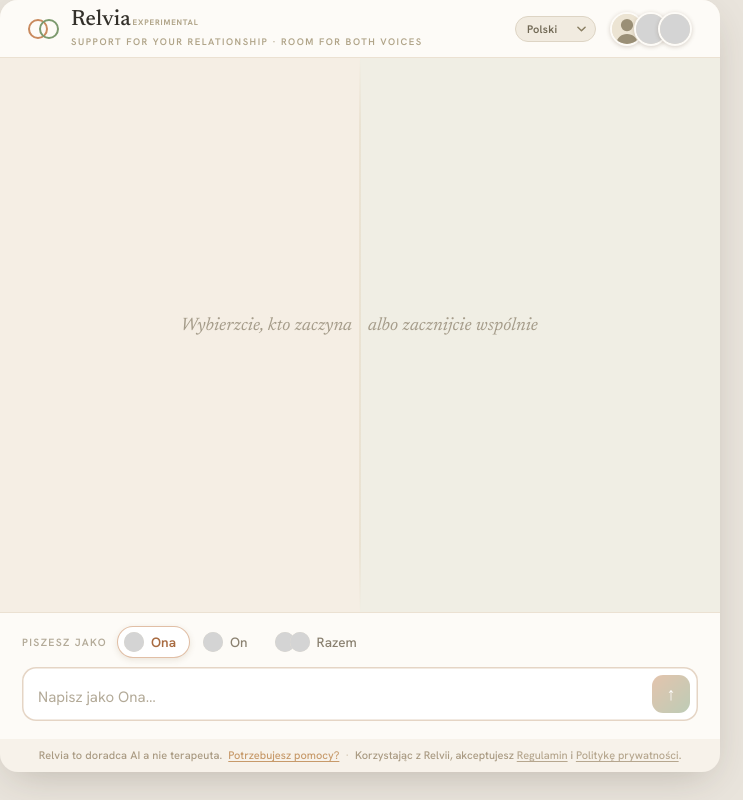
zmiana języka a stan rozmowy › komunikat błędu przechowywany jako KOD zmienia język przy przełączeniu
In the text box with placeholder "Napisz jako Ona…": (340, 698) [38,683,642,713], type "test"
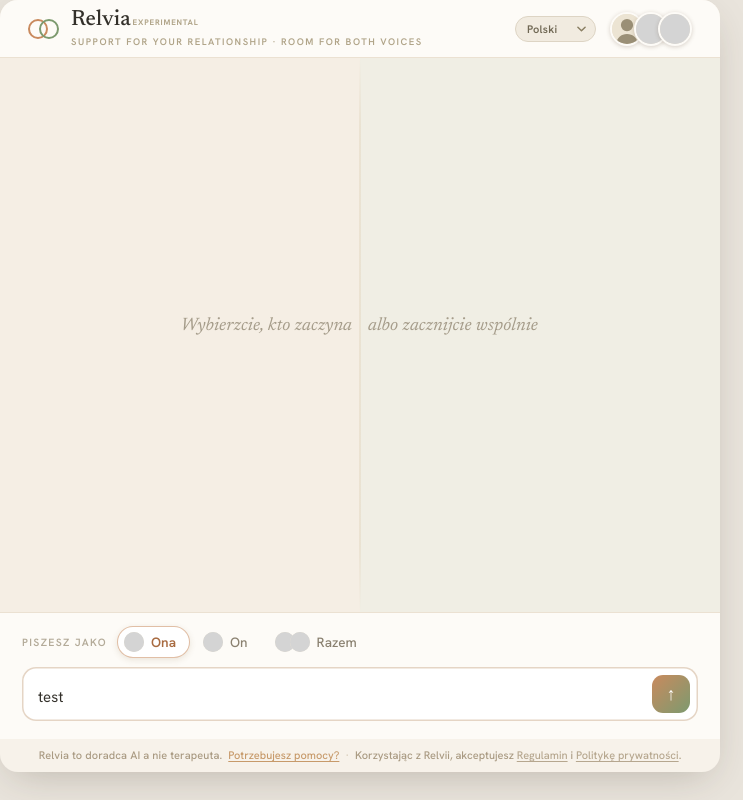
Click the button with class "send": (671, 694) [652,675,690,713]
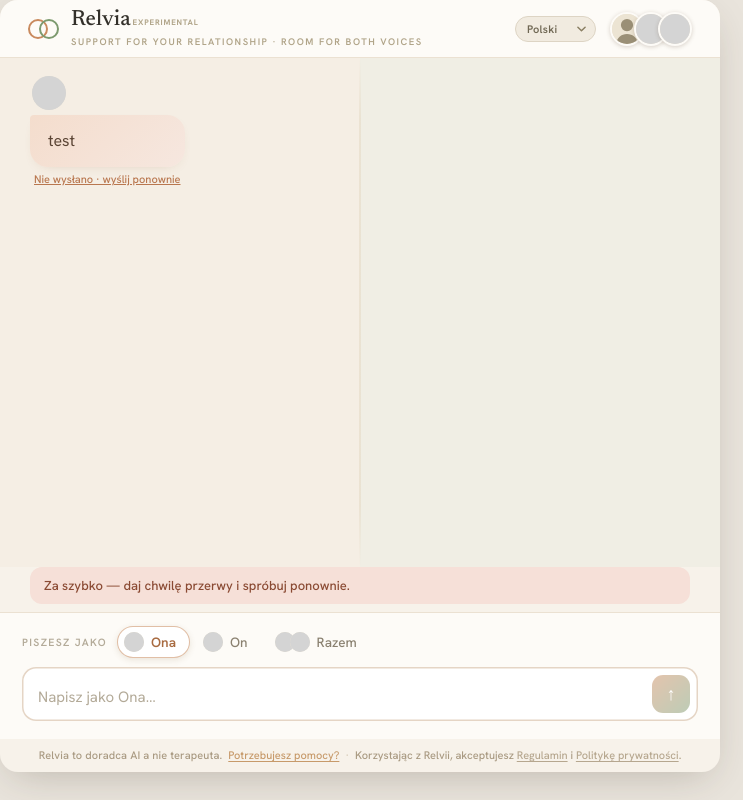
Now the text "Za szybko — daj chwilę przerwy i spróbuj ponownie." is shown, box [30,567,690,604]
Select "English" in the dropdown named "Język": (556, 28) [515,16,596,42]
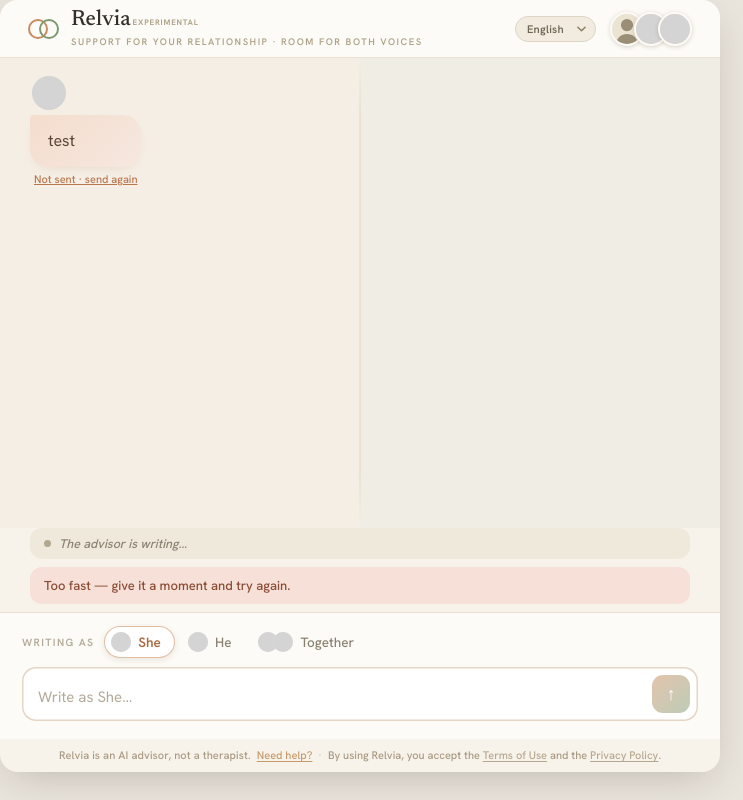
Now the text "Too fast — give it a moment and try again." is shown, box [30,567,690,604]
